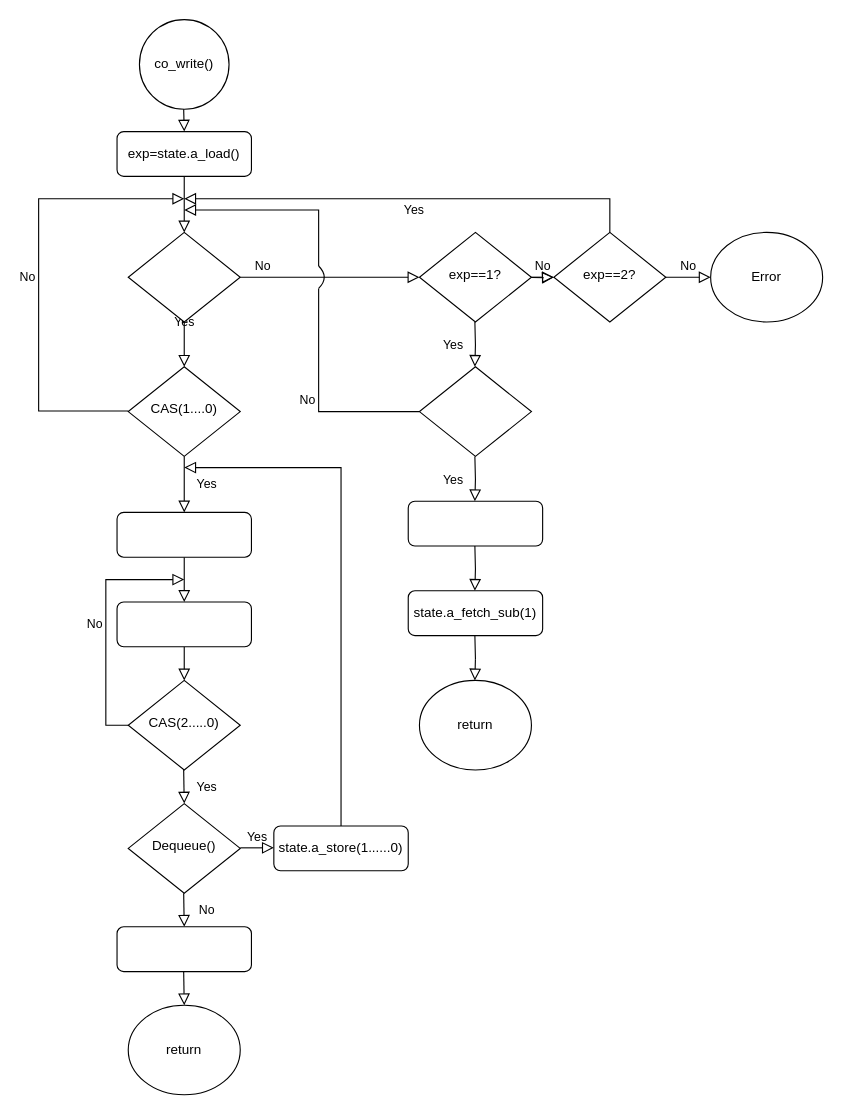
The diagram is 842 pixels wide and 1114 high, and some of its shapes have lost their labels. Each missing label, with the box of its shape:
CAS(exp+1): (418, 366, 531, 456)
Enqueue(): (407, 500, 543, 546)
exp=1......0: (116, 601, 251, 647)
exp==0?: (127, 231, 240, 322)
real_write(): (116, 511, 251, 557)
state.a_store(0): (116, 926, 251, 972)
